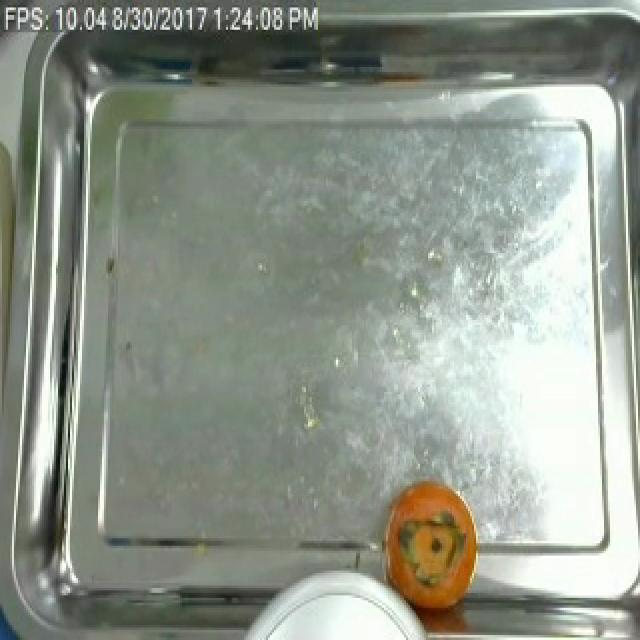Fruit: (378, 474, 480, 608)
